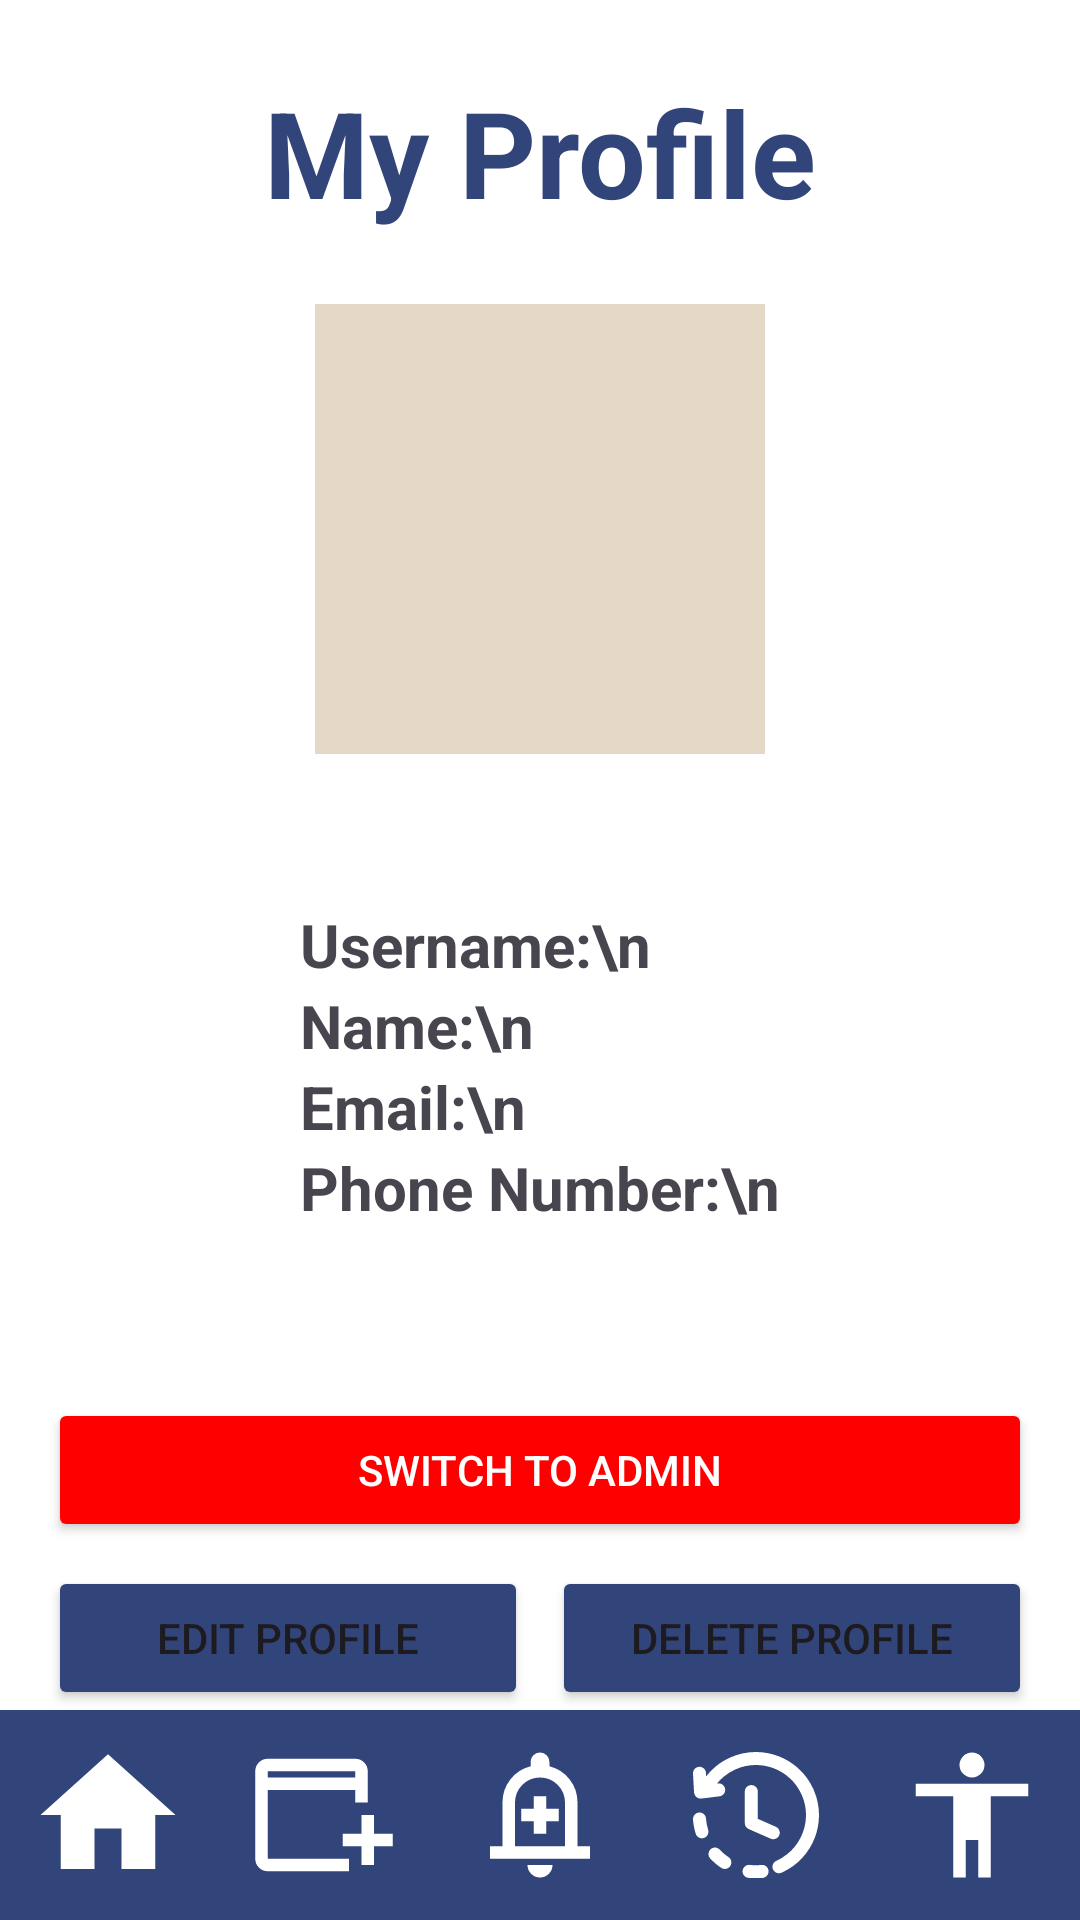

Named icons in this screenshot (1080px×1920px) and their bounding boxes, (x1, y1, x2, y2):
event: (255, 1758, 393, 1872)
history: (693, 1752, 819, 1878)
home: (41, 1754, 175, 1869)
notification: (490, 1752, 590, 1878)
